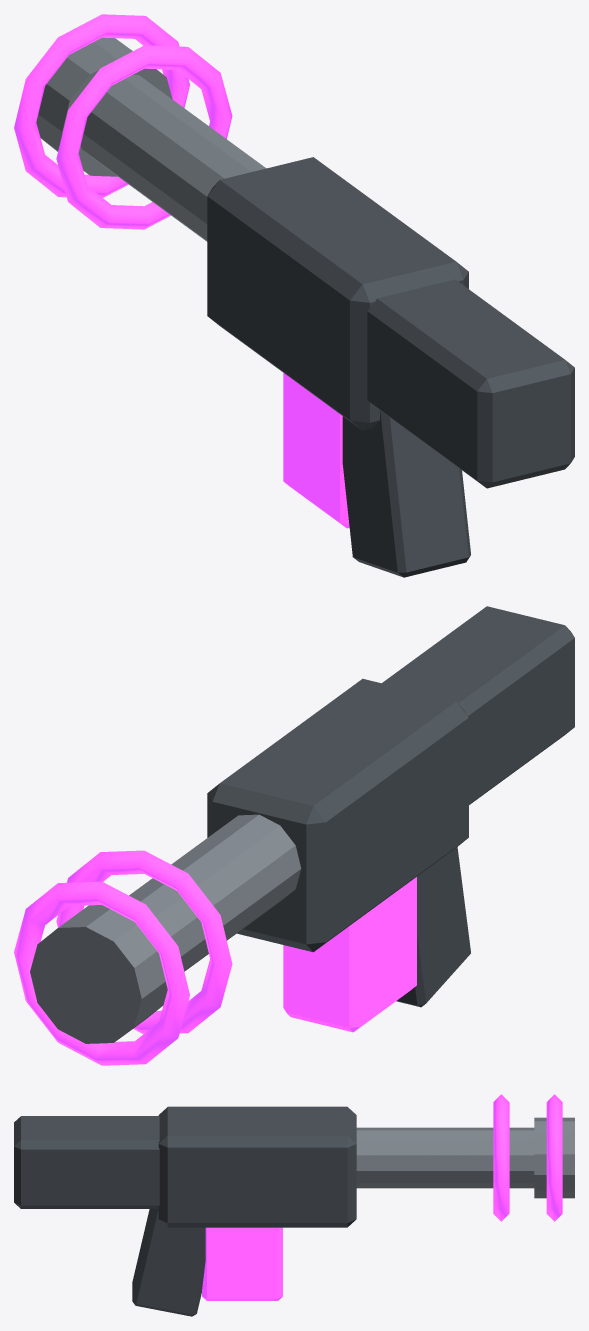
File: WPN_PlasmaCannon_Singularity_TP_v01.glb
3 views of the same model, one above another, from view 1: azimuth 30°, elevation 25°; view 2: azimuth 150°, elevation 25°; view 3: azimuth 270°, elevation 25° (orthographic). The views are drawn at different scales.
Parts seen in each view (by area): view 1: MESH_Weapon, MESH_AcceleratorRing_A, MESH_AcceleratorRing_B, MESH_EnergyCell; view 2: MESH_Weapon, MESH_EnergyCell, MESH_AcceleratorRing_B, MESH_AcceleratorRing_A; view 3: MESH_Weapon, MESH_EnergyCell, MESH_AcceleratorRing_A, MESH_AcceleratorRing_B.
Boxes of the visible parts, x1,y1,x2,y2 form: MESH_Weapon: (36, 37, 574, 577); MESH_AcceleratorRing_A: (56, 45, 232, 229); MESH_AcceleratorRing_B: (14, 14, 189, 197); MESH_EnergyCell: (283, 373, 349, 528); MESH_Weapon: (30, 606, 574, 1043); MESH_EnergyCell: (283, 877, 416, 1032); MESH_AcceleratorRing_B: (14, 881, 189, 1065); MESH_AcceleratorRing_A: (56, 850, 232, 1033); MESH_Weapon: (14, 1106, 574, 1316); MESH_EnergyCell: (202, 1227, 282, 1300); MESH_AcceleratorRing_A: (493, 1094, 509, 1221); MESH_AcceleratorRing_B: (546, 1094, 562, 1221).
Bounding box in the file's own units: 0.252 × 0.4502 × 1.1.
